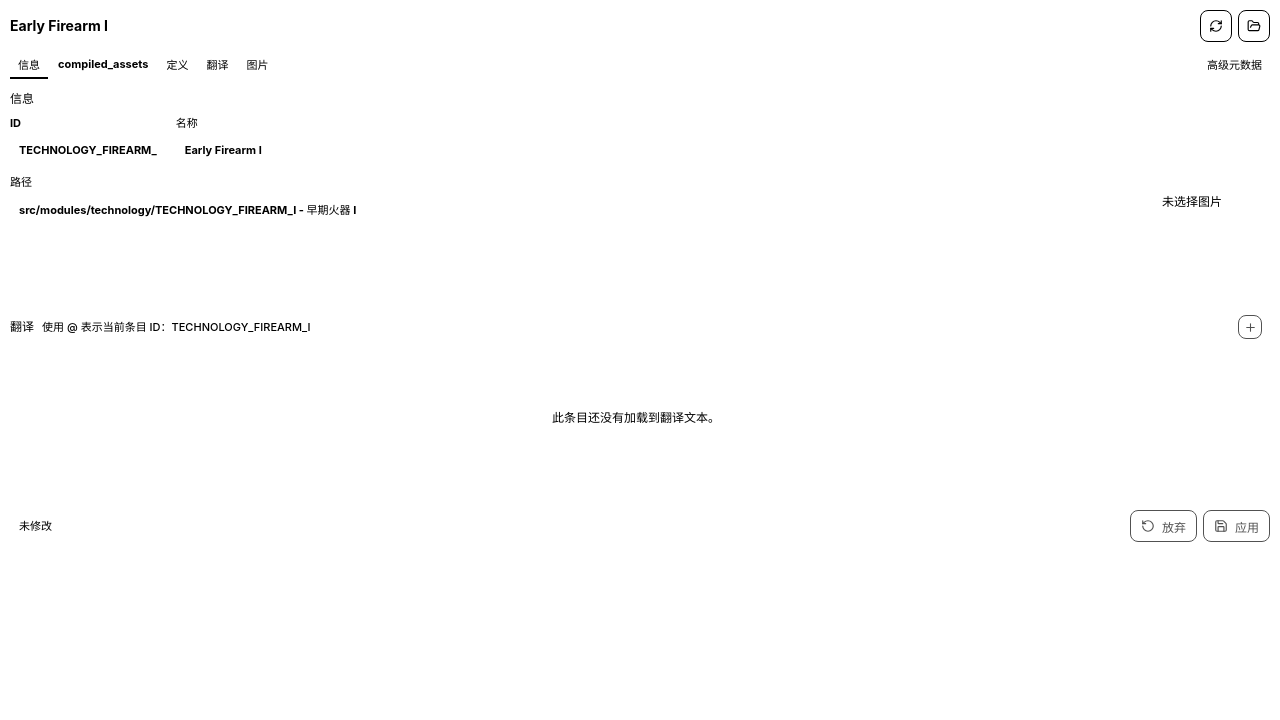
Test: ModuleEntityDetails source hydration › explains that image creation is unavailable when Technology has no exact source target
Click the button with class "source-tab" showing "图片".
click(258, 64)  # box [238,50,276,78]
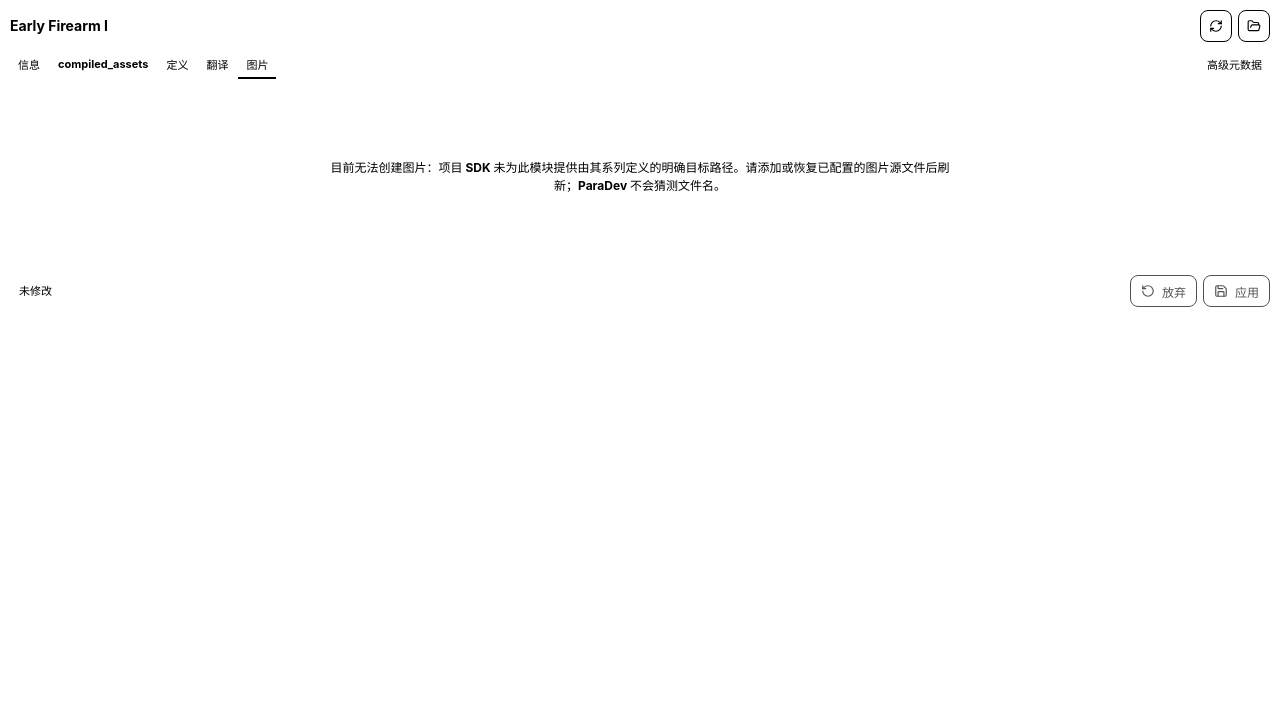
Expected: the message with class "image-editor-unavailable" shows "项目 SDK 未为此模块提供由其系列定义的明确目标路径", [331,160,949,193]
Expected: the message with class "image-editor-unavailable" shows "ParaDev 不会猜测文件名", [331,160,949,193]
